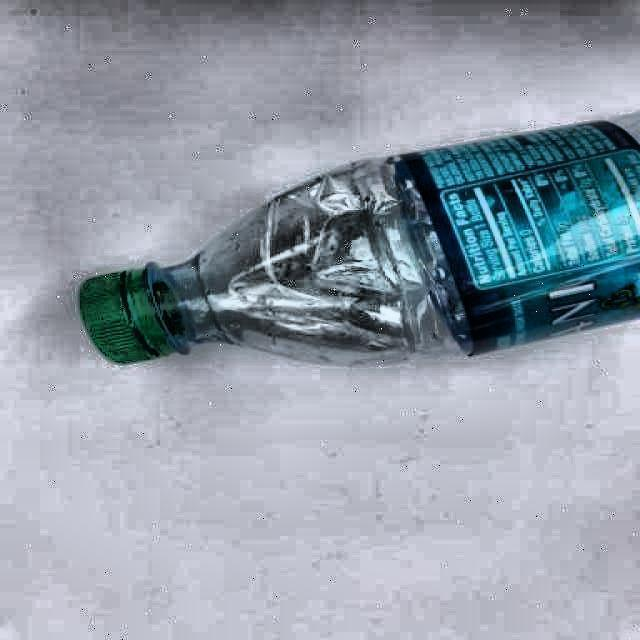plastic: (80, 114, 640, 363)
